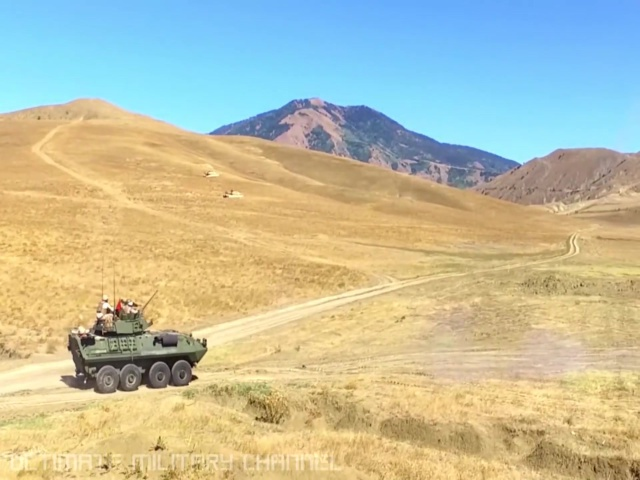vehicle: (69, 314, 208, 394)
